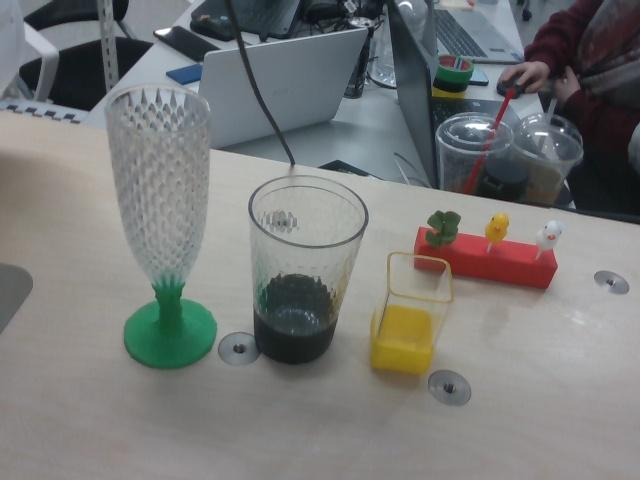black_cup: (255, 275, 336, 363)
green_cup: (122, 279, 217, 369)
yellow_cup: (369, 306, 435, 376)
